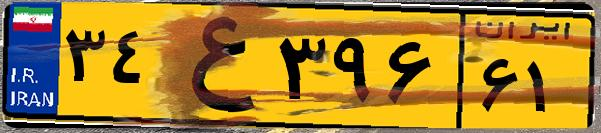1: (525, 38, 570, 115)
3: (270, 28, 330, 110), (57, 26, 110, 100)
4: (110, 28, 158, 98)
6: (385, 28, 445, 110), (475, 38, 525, 113)
9: (330, 28, 385, 110)
ع: (158, 12, 270, 120)
